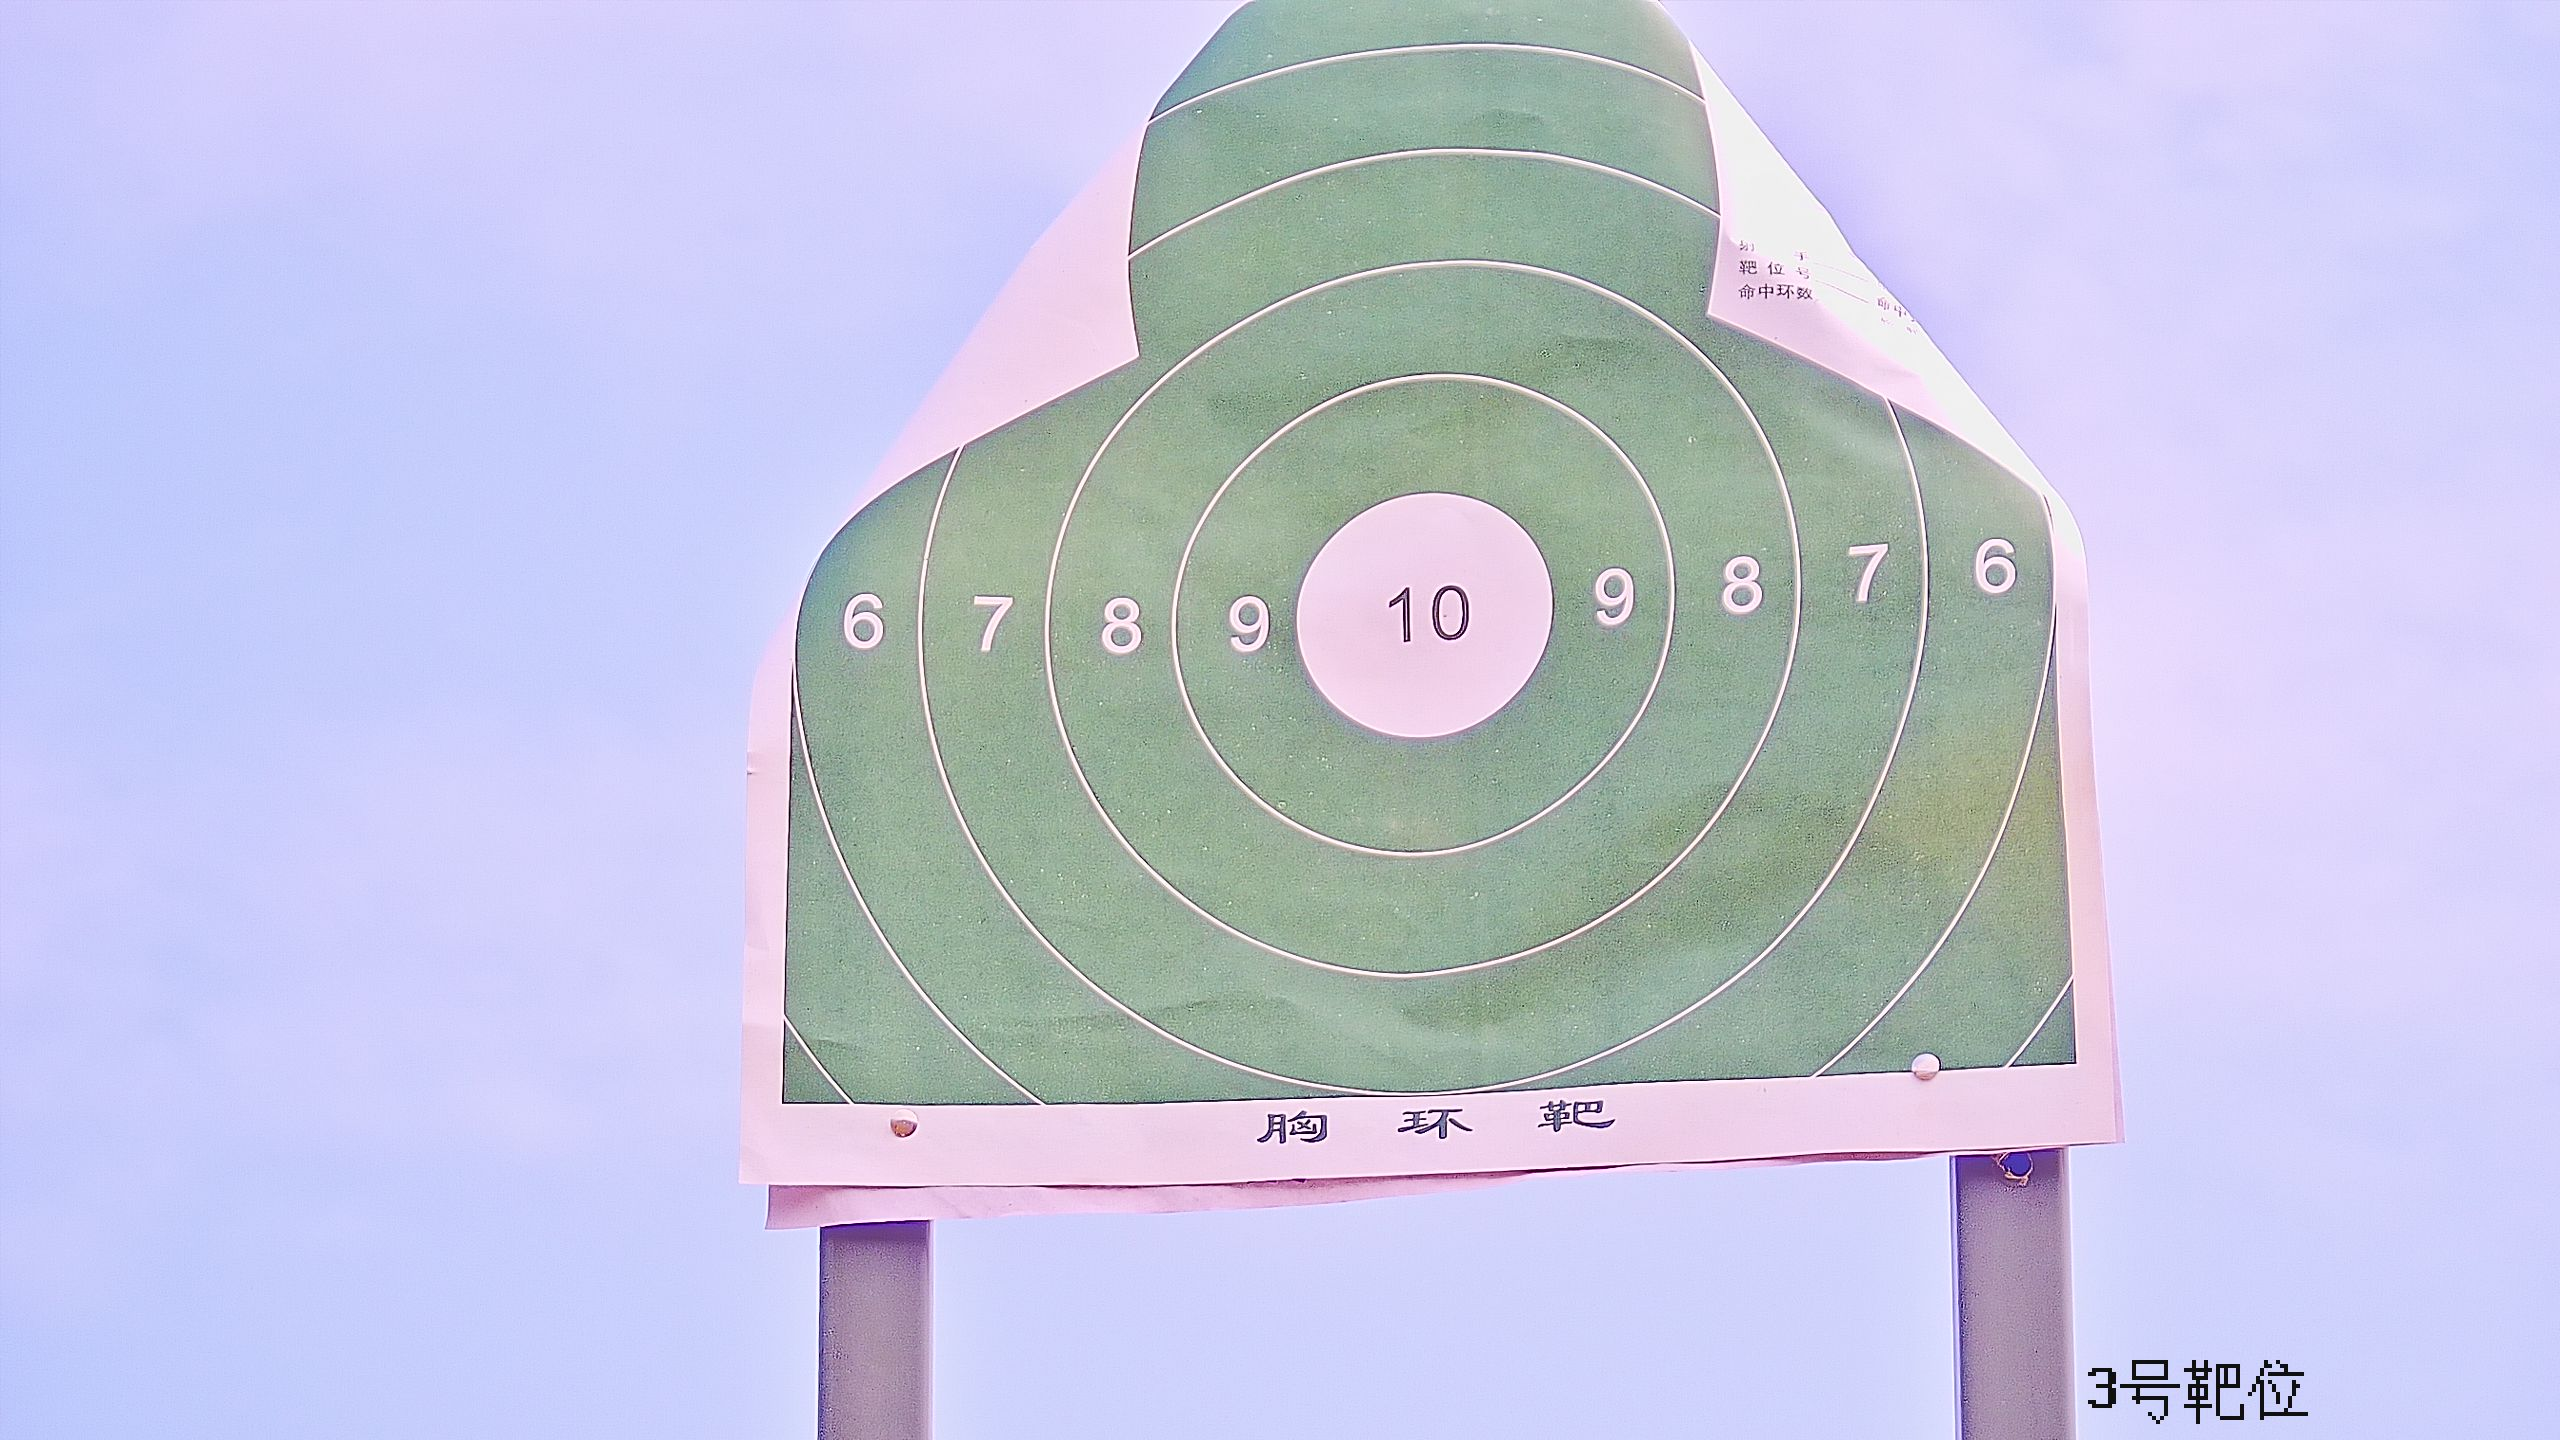kernel: (1415, 612, 1424, 617)
target: (775, 5, 2078, 1115)
ten: (1292, 491, 1561, 740)
